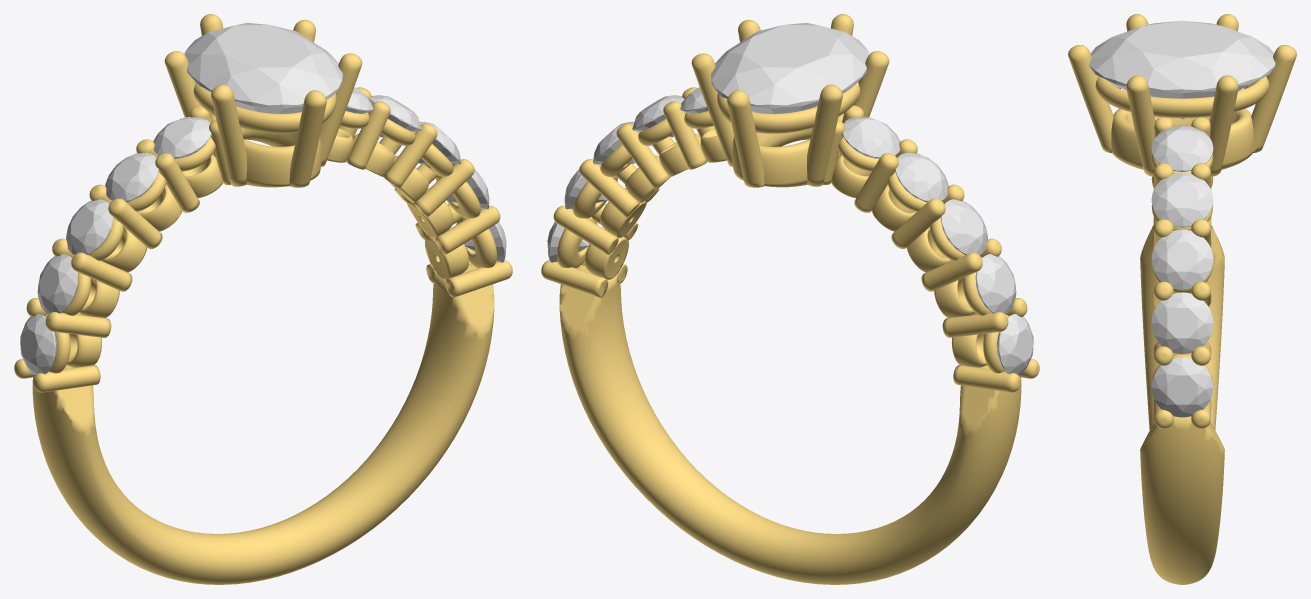
The model's file is diamond-oval-yellowgold-6prong-taperedband-11stone.glb.
3 views of the same model, side by side, from view 1: azimuth 30°, elevation 25°; view 2: azimuth 150°, elevation 25°; view 3: azimuth 270°, elevation 25° (orthographic).
Visible parts, largest first — view 1: metal, stone.001, side.012, side.013, side.011, side.014, side.010, side.018; view 2: metal, stone.001, side.012, side.013, side.011, side.014, side.010, side.018; view 3: metal, stone.001, side.016, side.017, side.015, side.018, side.019.
Part boxes in pixels (box(x1,y1,x2,y2)): metal: box(14, 14, 512, 584); stone.001: box(184, 22, 342, 113); side.012: box(66, 199, 113, 254); side.013: box(105, 152, 158, 202); side.011: box(37, 254, 78, 314); side.014: box(153, 117, 211, 158); side.010: box(20, 314, 56, 375); side.018: box(369, 95, 421, 137); metal: box(541, 14, 1039, 584); stone.001: box(711, 22, 869, 113); side.012: box(940, 199, 987, 254); side.013: box(895, 152, 948, 202); side.011: box(975, 254, 1016, 314); side.014: box(842, 117, 900, 158); side.010: box(997, 314, 1033, 375); side.018: box(632, 95, 684, 137); metal: box(1068, 14, 1296, 584); stone.001: box(1089, 20, 1275, 119); side.016: box(1151, 292, 1213, 353); side.017: box(1151, 229, 1213, 289); side.015: box(1151, 357, 1213, 417); side.018: box(1151, 172, 1213, 227); side.019: box(1151, 125, 1213, 171).
Bounding box in the file's own units: 21.96 × 23.4 × 9.29.
